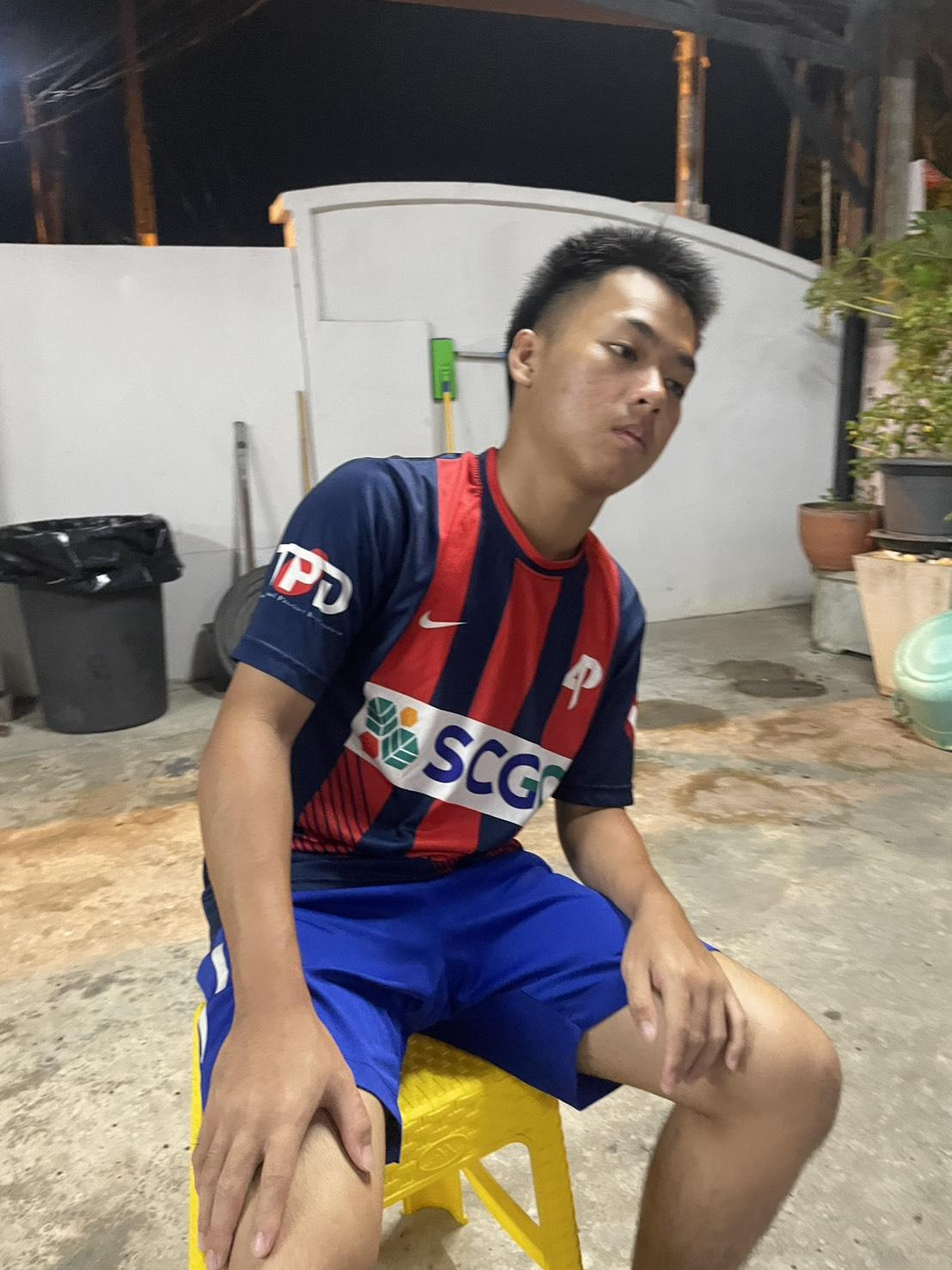BadPosture: (202, 224, 716, 911)
